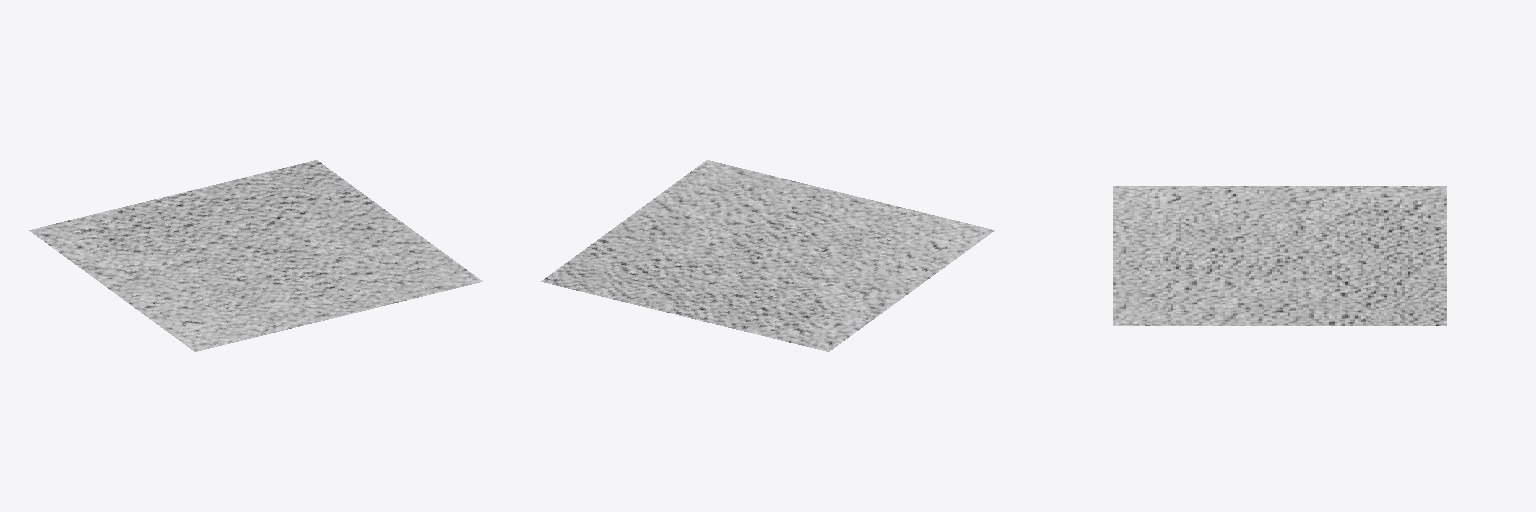
The picture shows the model from 3 angles: view 1: azimuth 30°, elevation 25°; view 2: azimuth 150°, elevation 25°; view 3: azimuth 270°, elevation 25°; orthographic projection.
Bounding box in the file's own units: 2.01 × 0 × 2.01.
Materials: 1 (1 with a texture image).